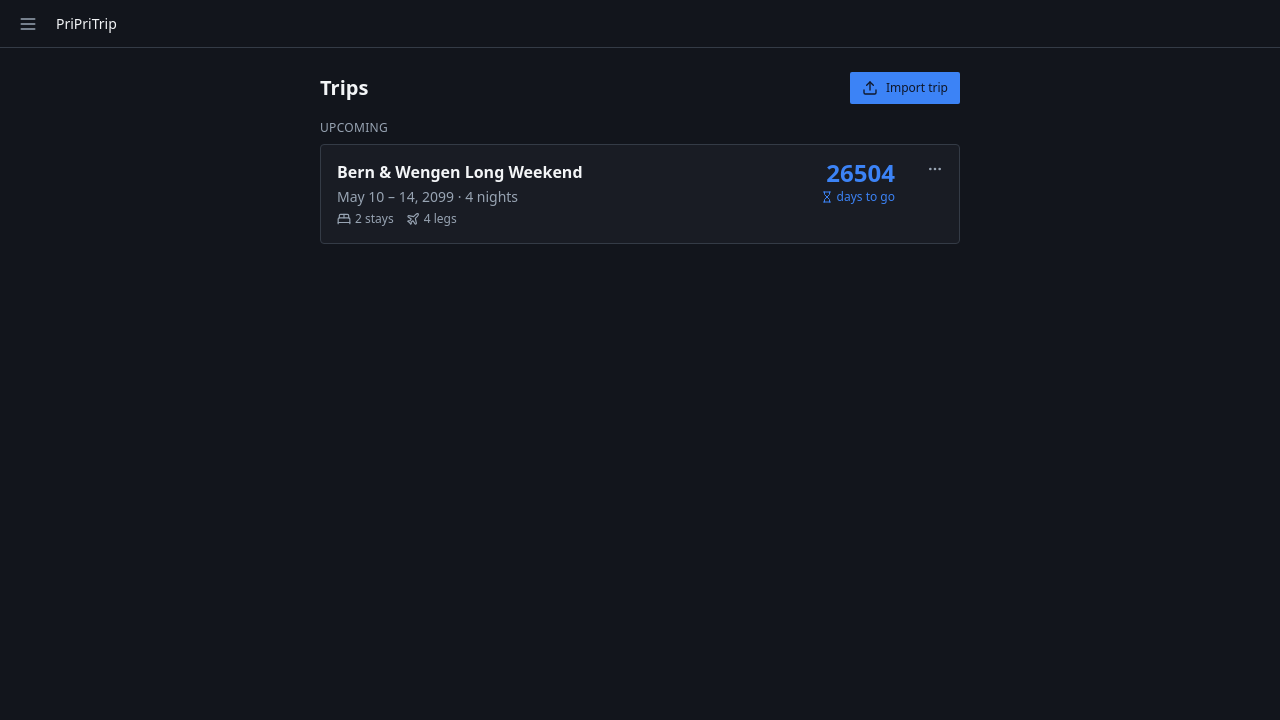
TripsPage › asks before deleting, and cancel keeps the trip
The image size is (1280, 720).
Click the button named "more for bern" at point(935, 169), box [917, 151, 953, 187]
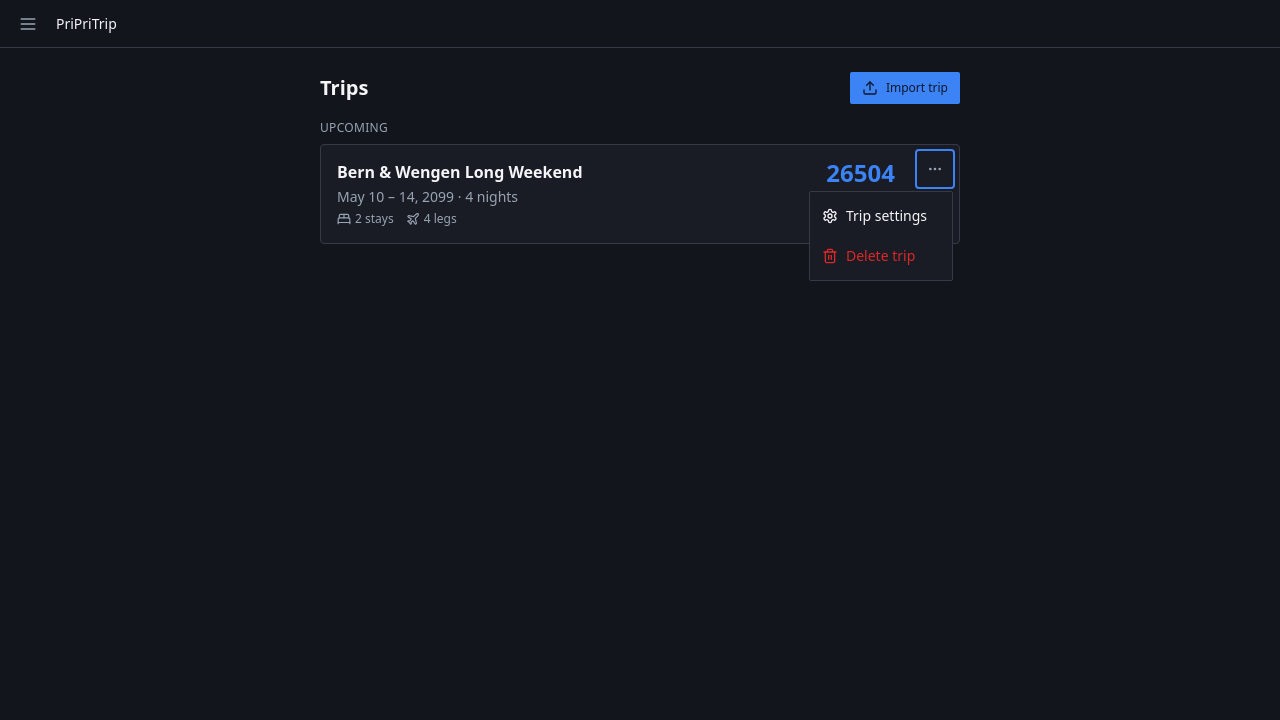
Click the menu item "Delete trip" at point(881, 256), box [810, 236, 952, 276]
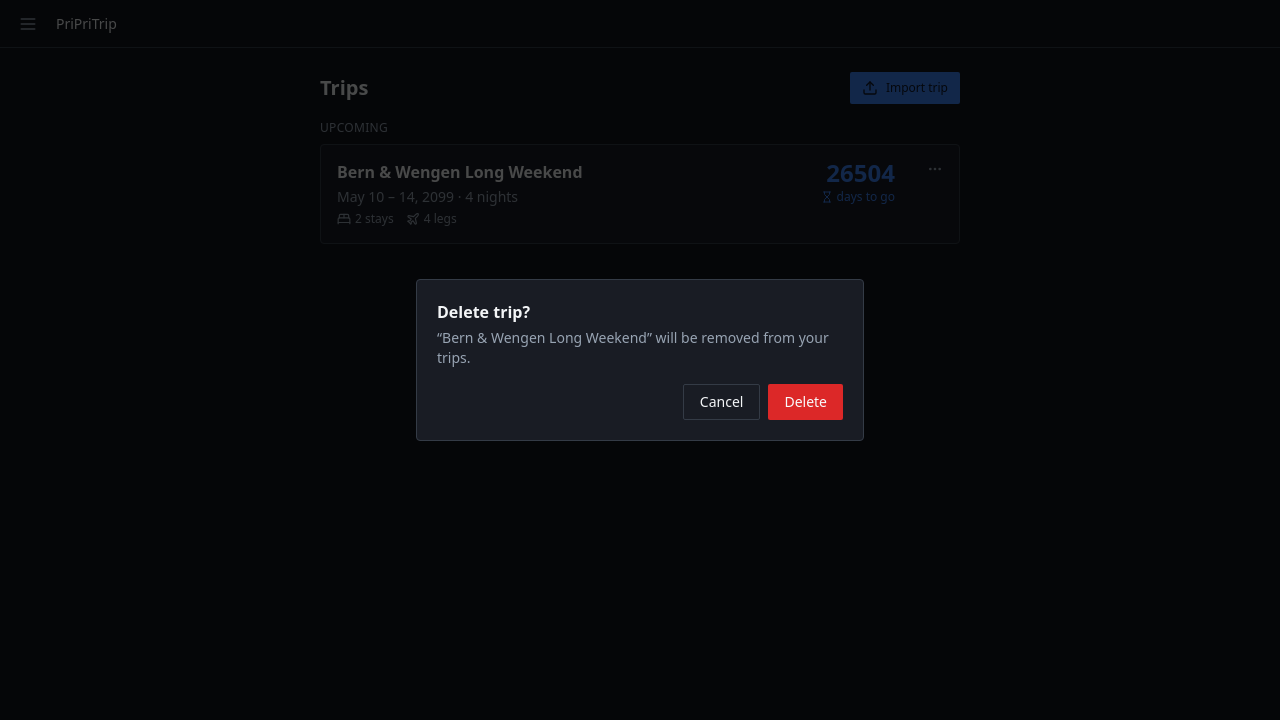
Click the button "Cancel" at point(722, 402), box [683, 384, 760, 420]
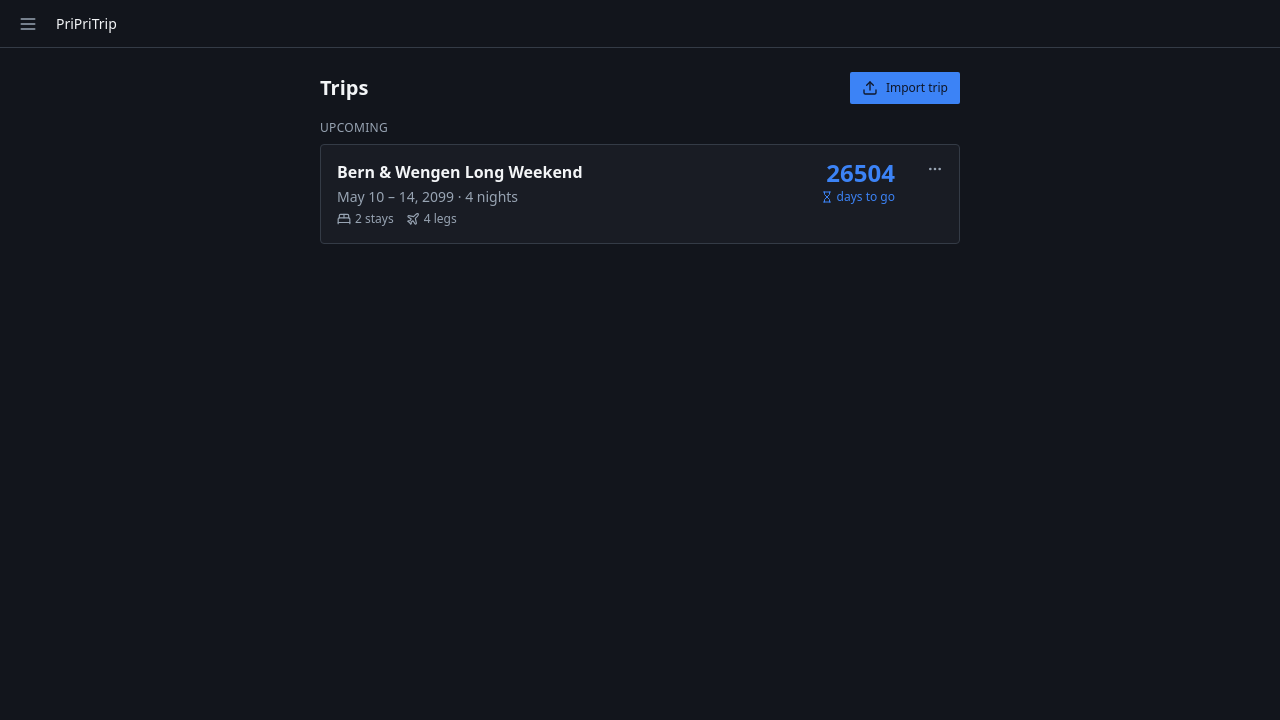
Expected: the link "Bern & Wengen" is shown, [321, 145, 911, 243]
Click the button named "more for bern" at point(935, 169), box [917, 151, 953, 187]
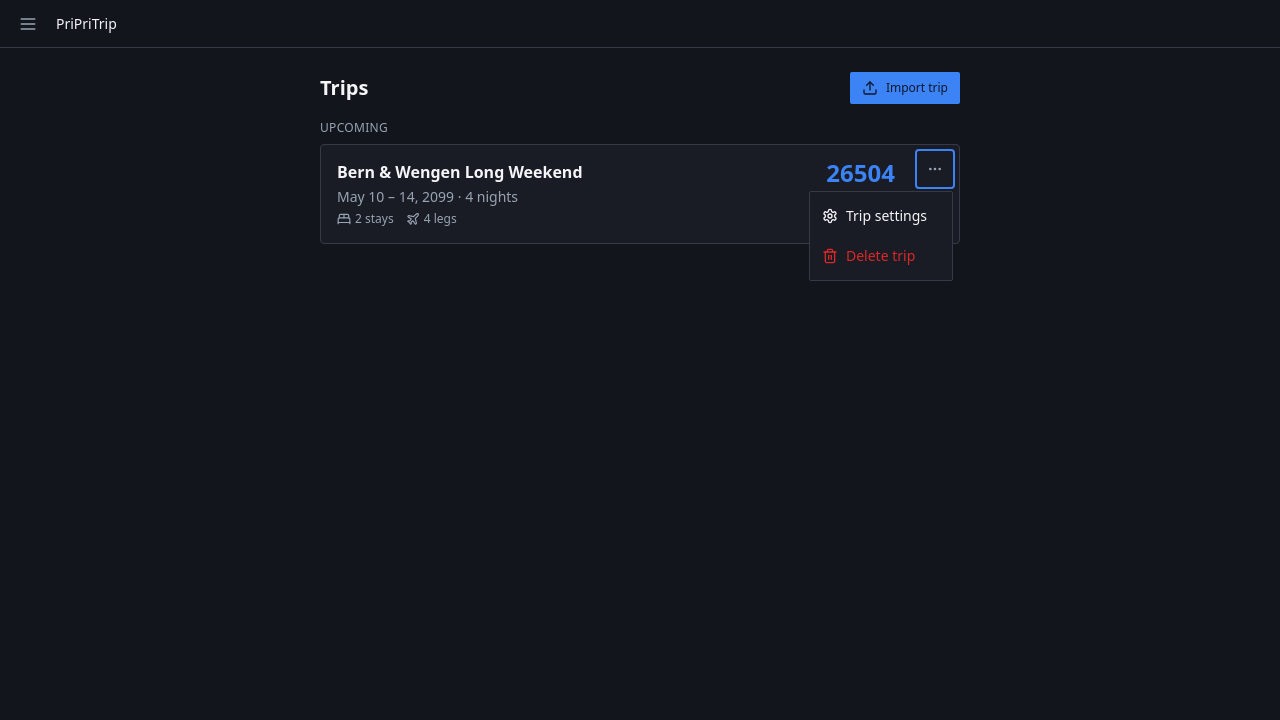
Click the menu item "Delete trip" at point(881, 256), box [810, 236, 952, 276]
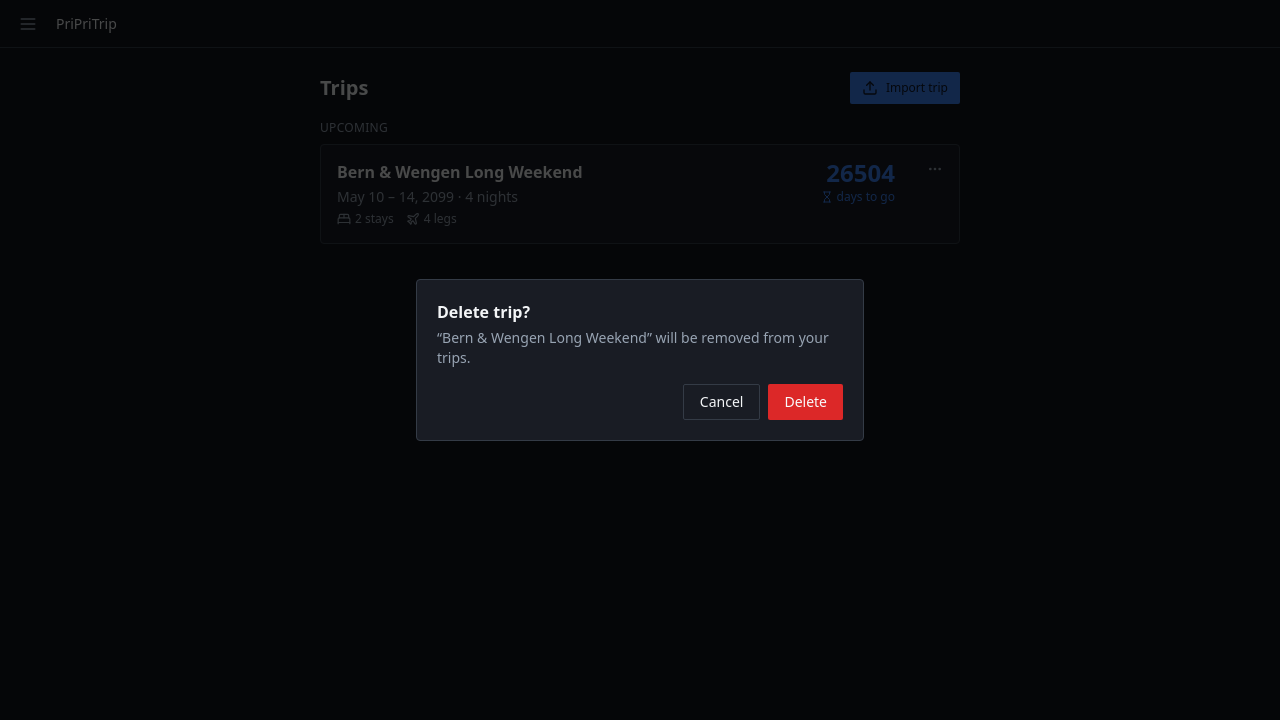
Click the button "Delete" at point(806, 402), box [768, 384, 843, 420]
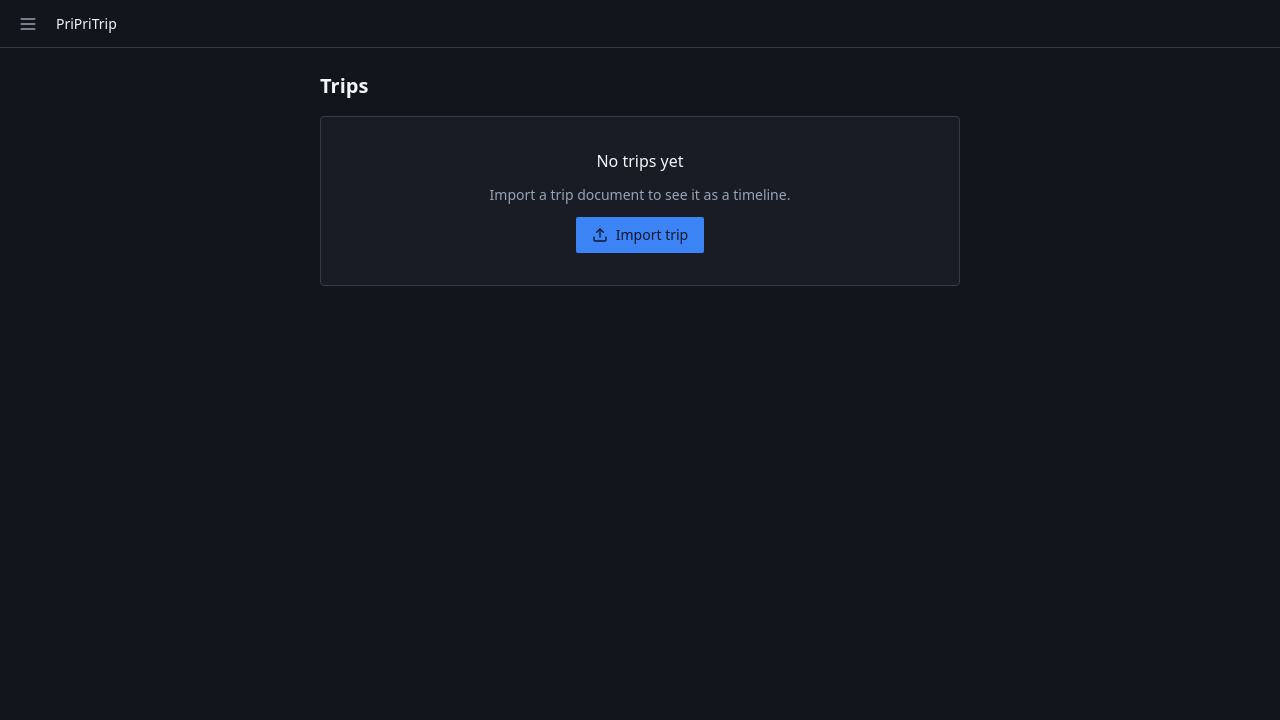
Now the text "No trips yet" is shown, box [596, 149, 684, 173]
